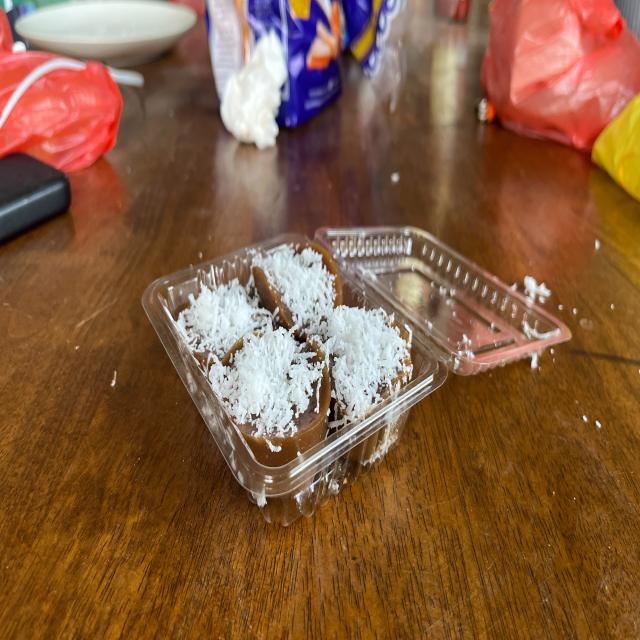Kuih lompang: (209, 327, 331, 467), (319, 304, 412, 422), (176, 278, 271, 376), (252, 242, 342, 331)
